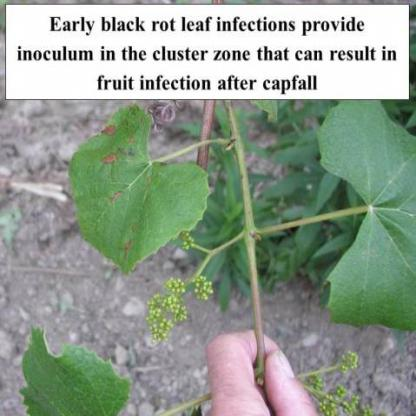grape leaf black rot: (61, 103, 215, 279)
